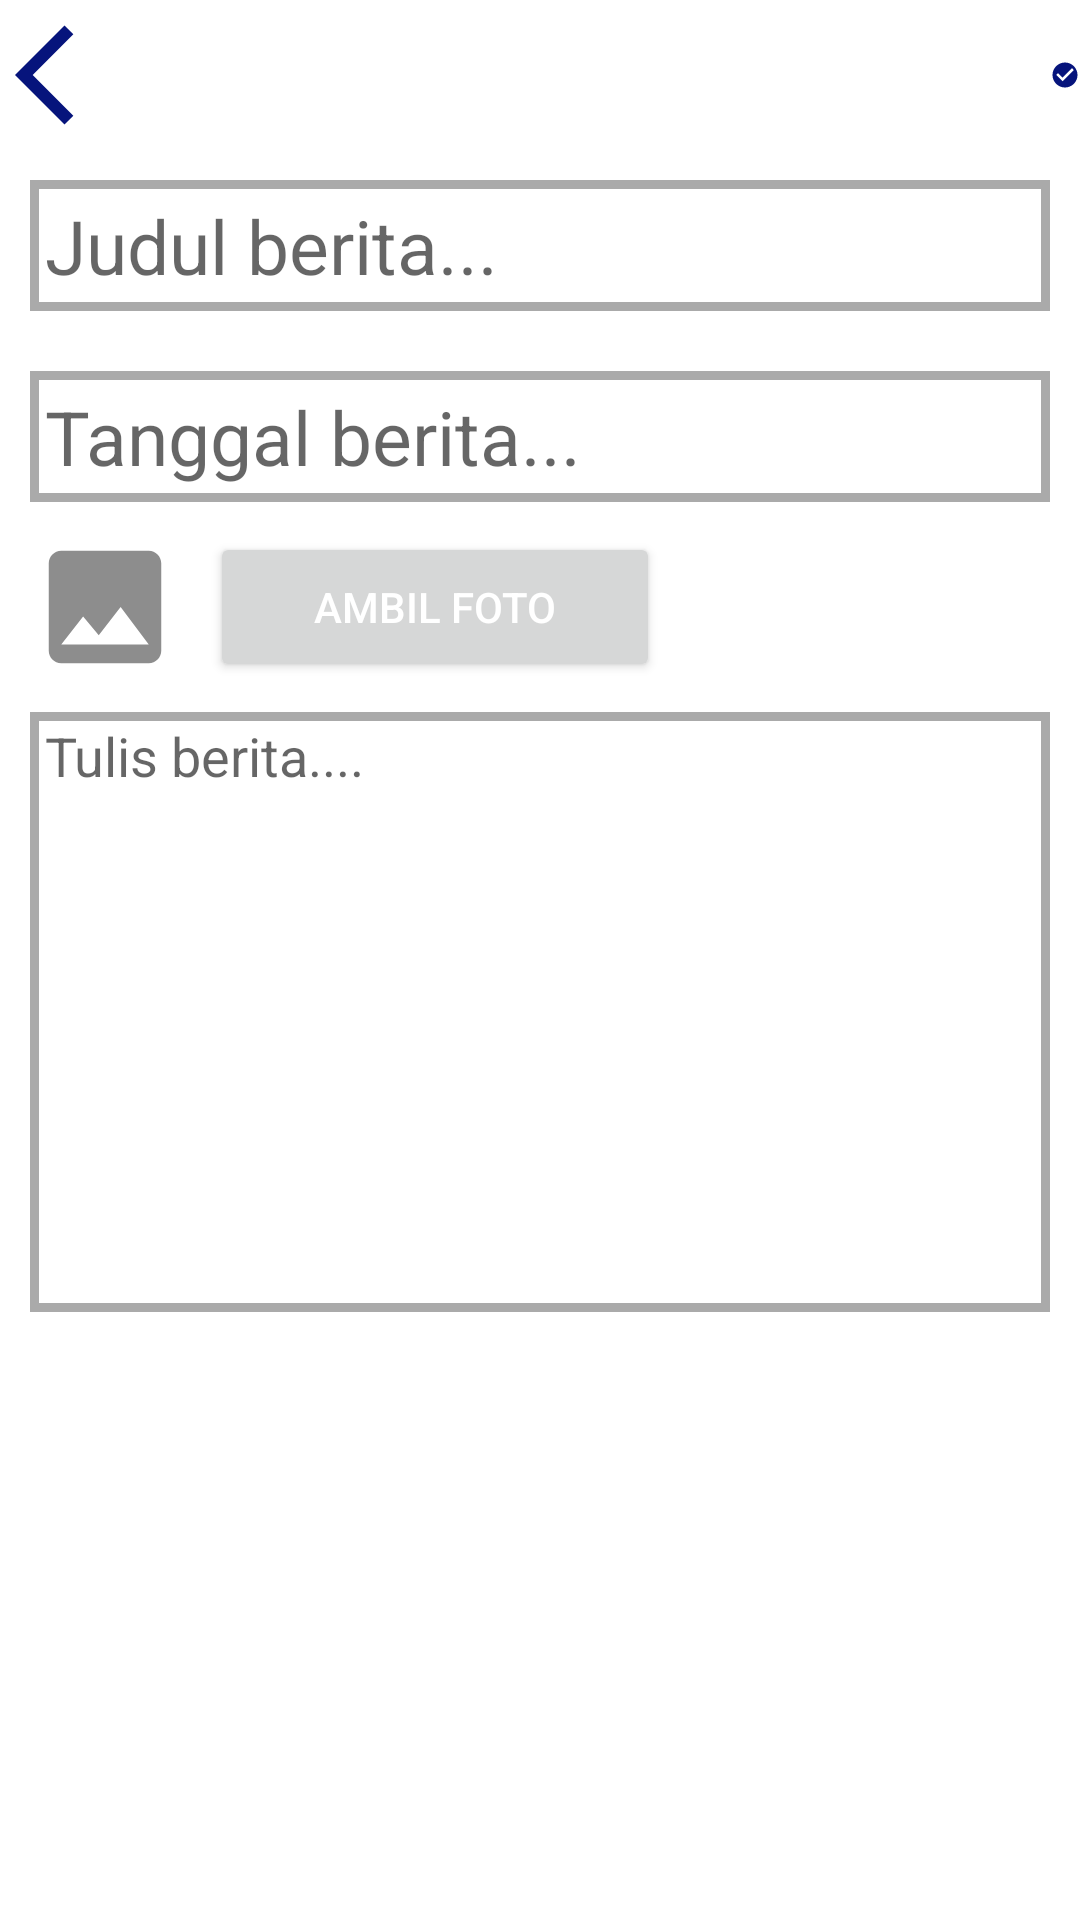

Named icons in this screenshot (1080 x 1920) and their centers, (x=x, y=y):
arrow back: (x=44, y=75)
check circle: (x=1065, y=75)
